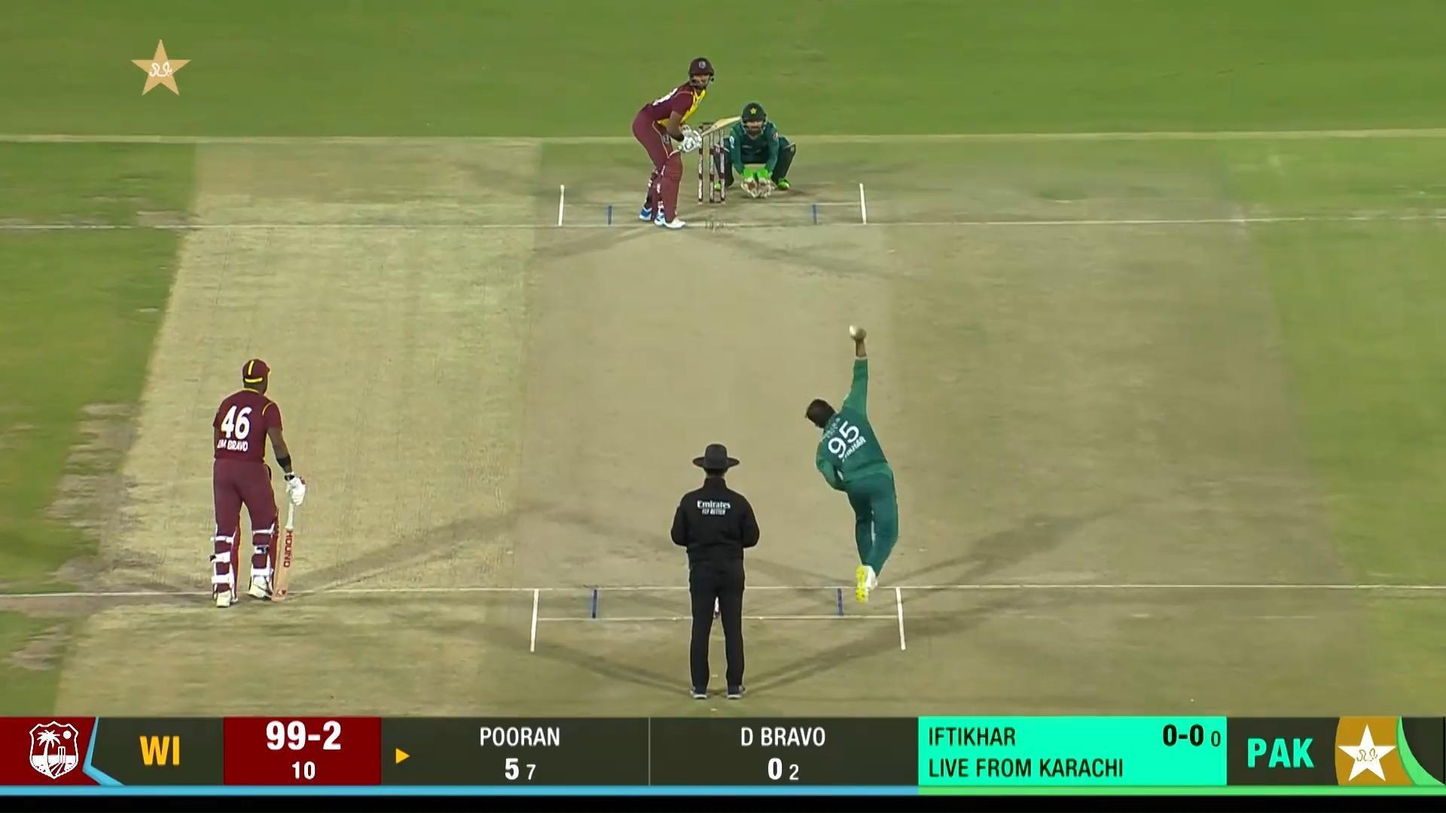BM 1: (633, 57, 742, 230)
BO: (805, 328, 899, 604)
